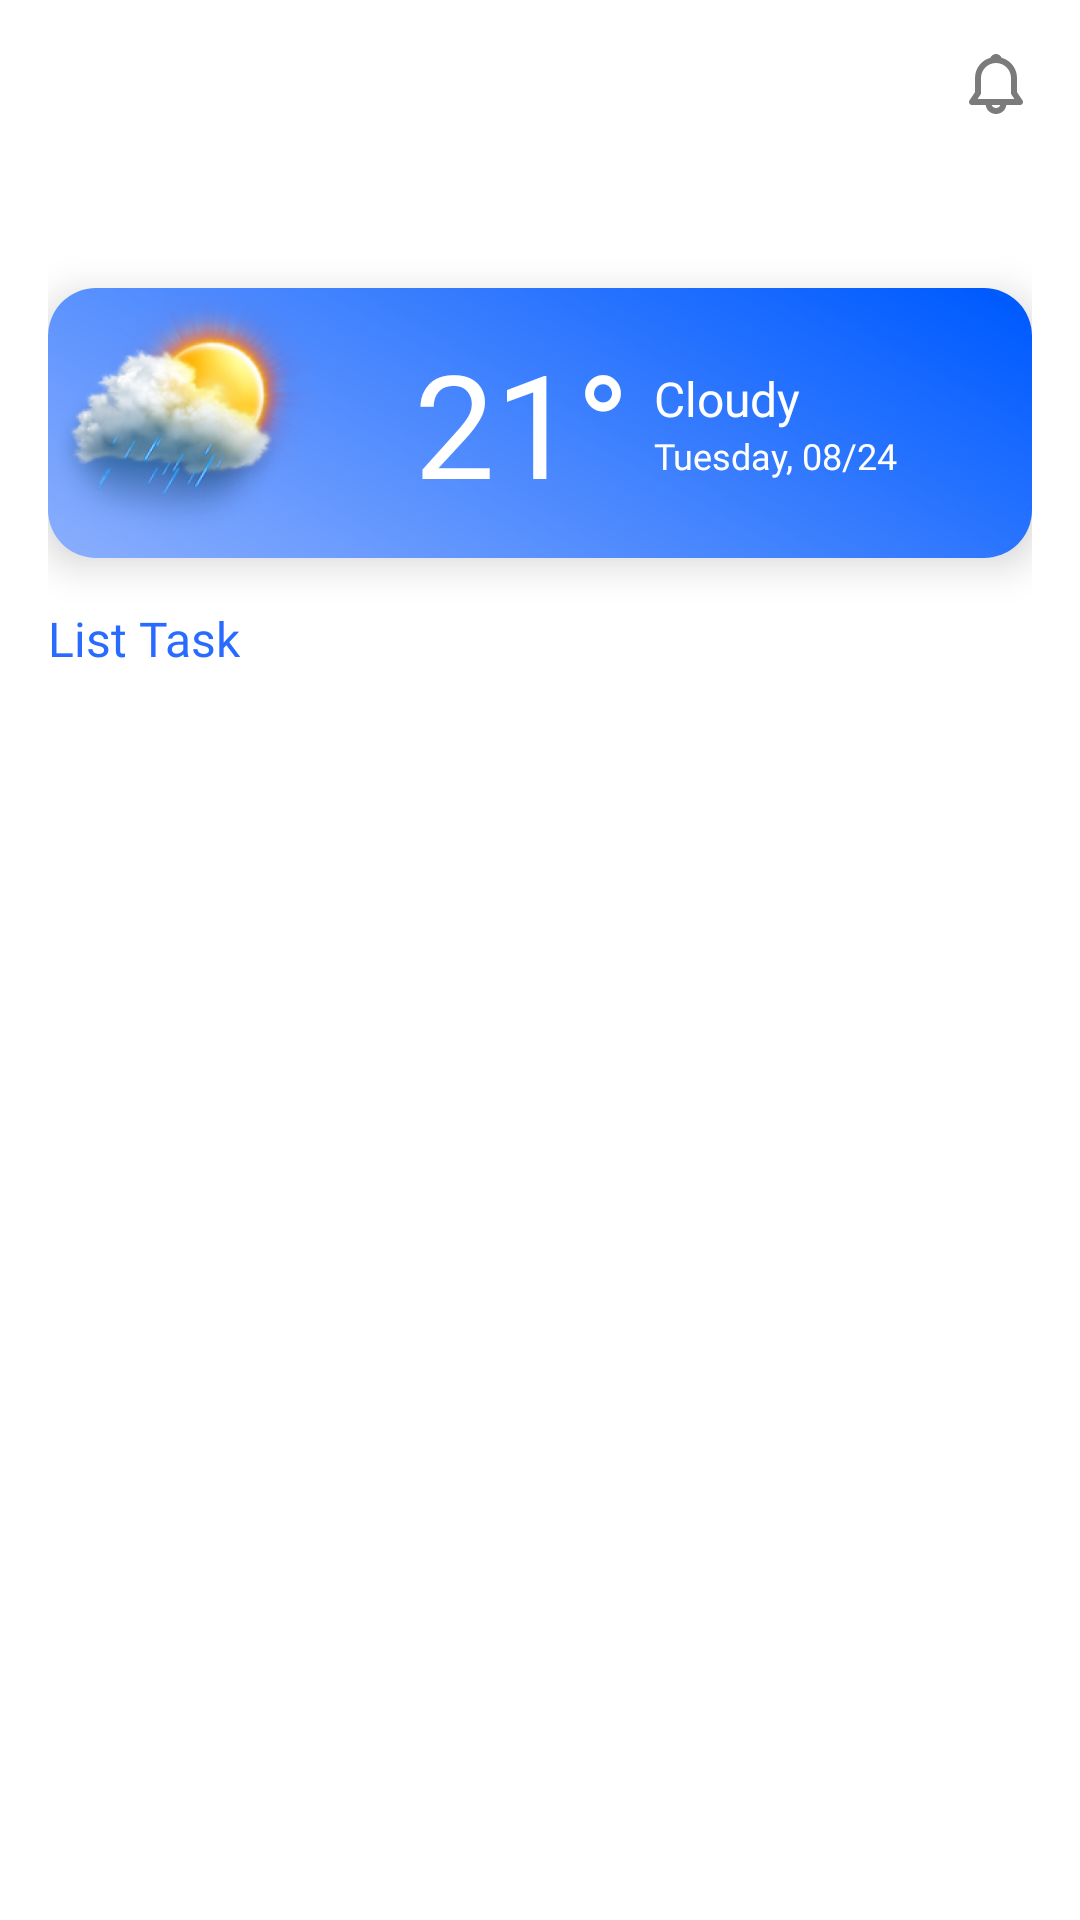

Where icons sit on this 1080 × 1920 app screen, as (x1, y1, x2, y2):
cuaca: (48, 288, 318, 558)
notif: (969, 54, 1023, 114)
